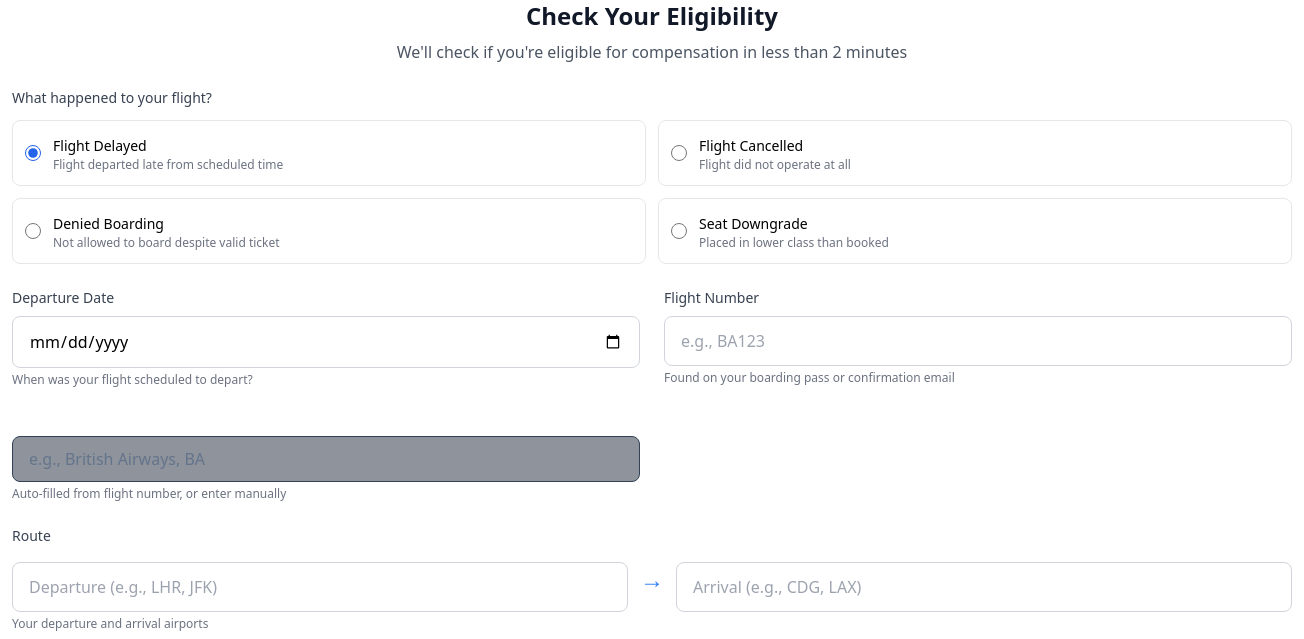
FlightLookupForm - Collapsible Info Boxes › should show collapsed cancellation rights info box
Click the radio button labelled "Flight Cancelled Flight did not operate at all": point(679, 153) [671,145,687,161]
(page scrolled)
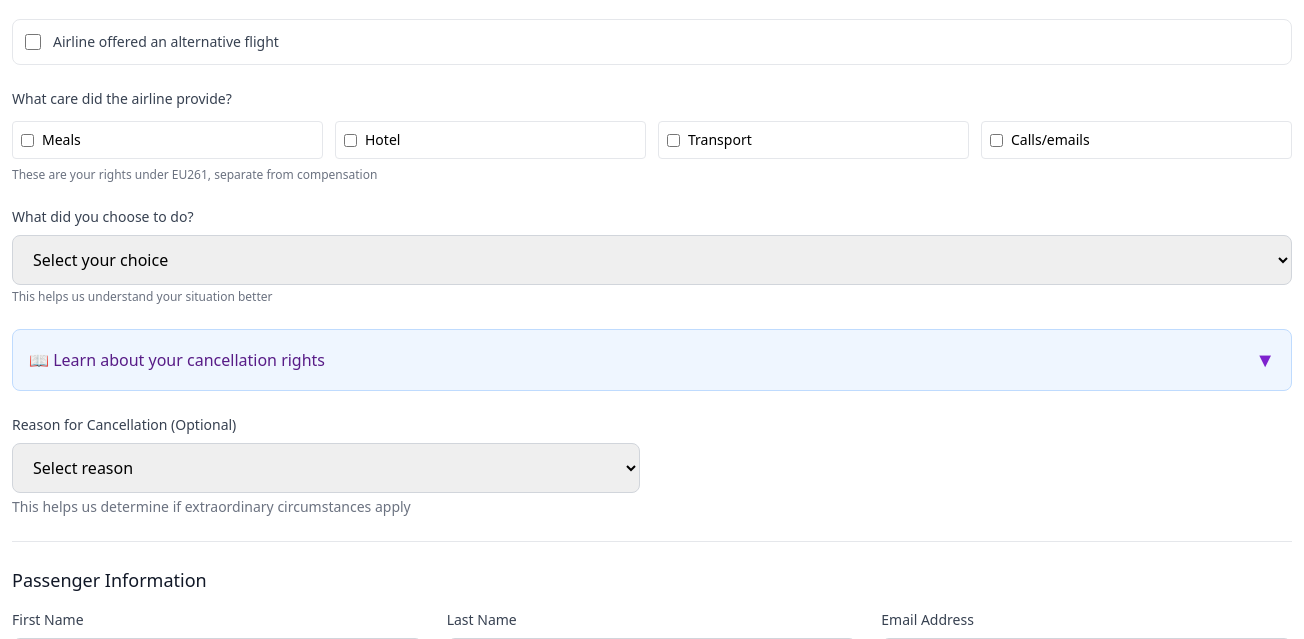
Result: the text "📖 Learn about your cancellation rights" is shown at [29,348,325,372]
